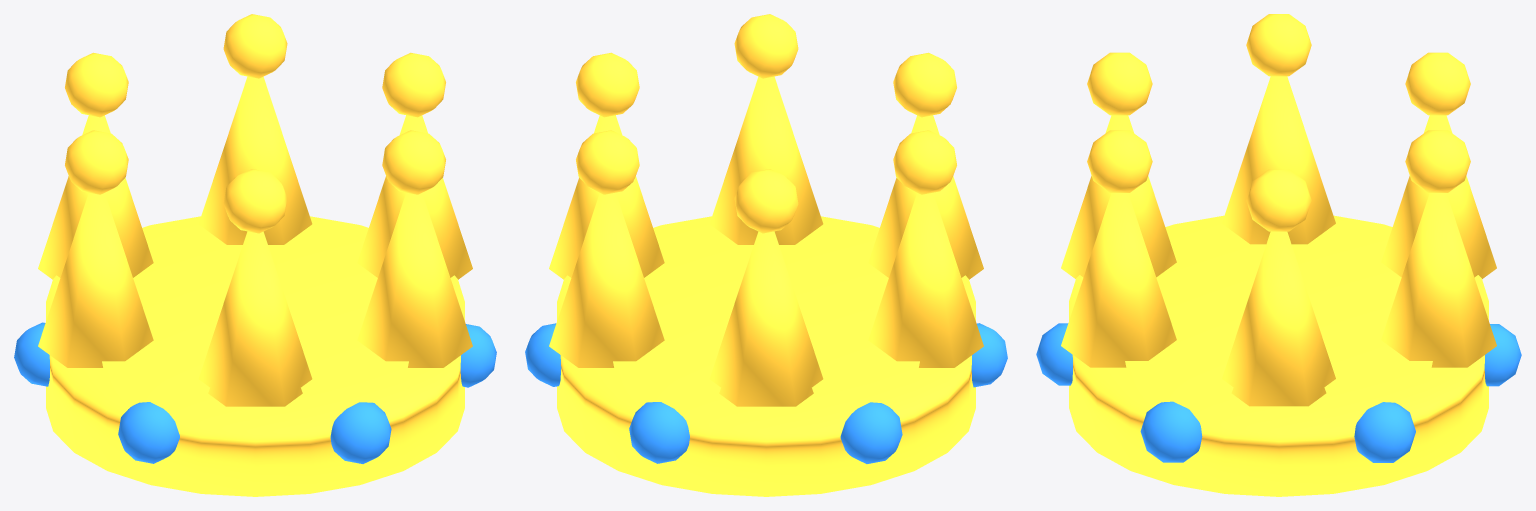
Rendered from acc_crown_mobile.glb.
3 renders of one model, left to right at view 1: azimuth 30°, elevation 25°; view 2: azimuth 150°, elevation 25°; view 3: azimuth 270°, elevation 25°, orthographic.
Visible parts, largest first — view 1: AccCrown; view 2: AccCrown; view 3: AccCrown.
Boxes of the visible parts, x1,y1,x2,y2 form: AccCrown: (14,14,496,496); AccCrown: (525,14,1007,496); AccCrown: (1036,14,1521,496).
Bounding box in the file's own units: 0.7159 × 0.53 × 0.74.
